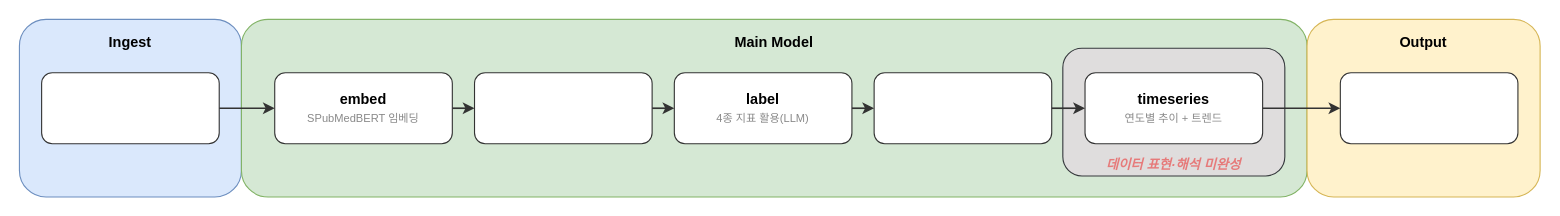
The diagram is 1560 pixels wide and 216 high, and some of its shapes have lost their labels. The centre of each missing label's shape, as x and y in pixels:
"cluster BERTopic + sweep" goes at point 562,108.
"fetch PubMed 메타 수집" goes at point 130,108.
"label-relevance 특정 의도와의 관련성 파악 (LLM)" goes at point 962,108.
"report HTML 종합 리포트" goes at point 1428,108.
